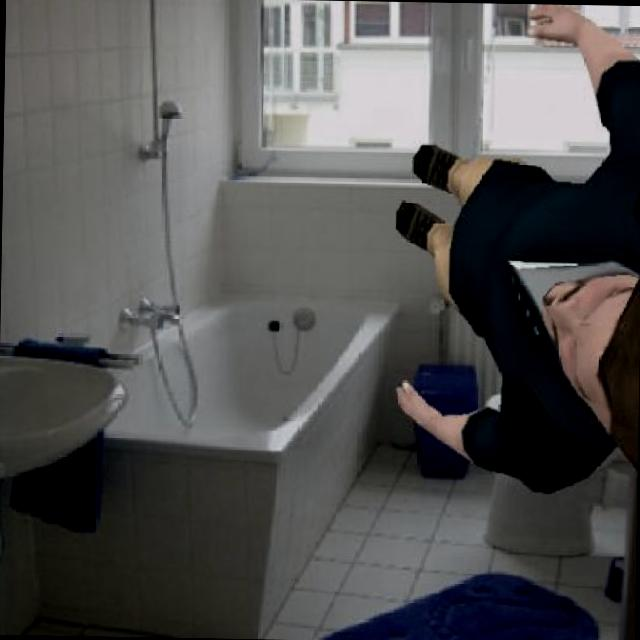Person: (383, 1, 640, 496)
